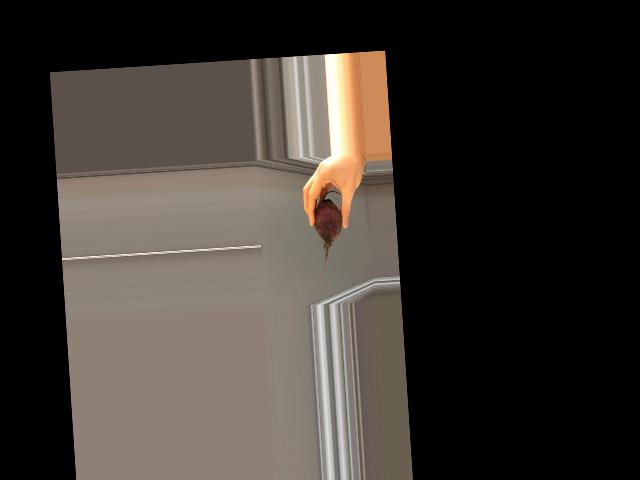beet: (312, 191, 346, 280)
